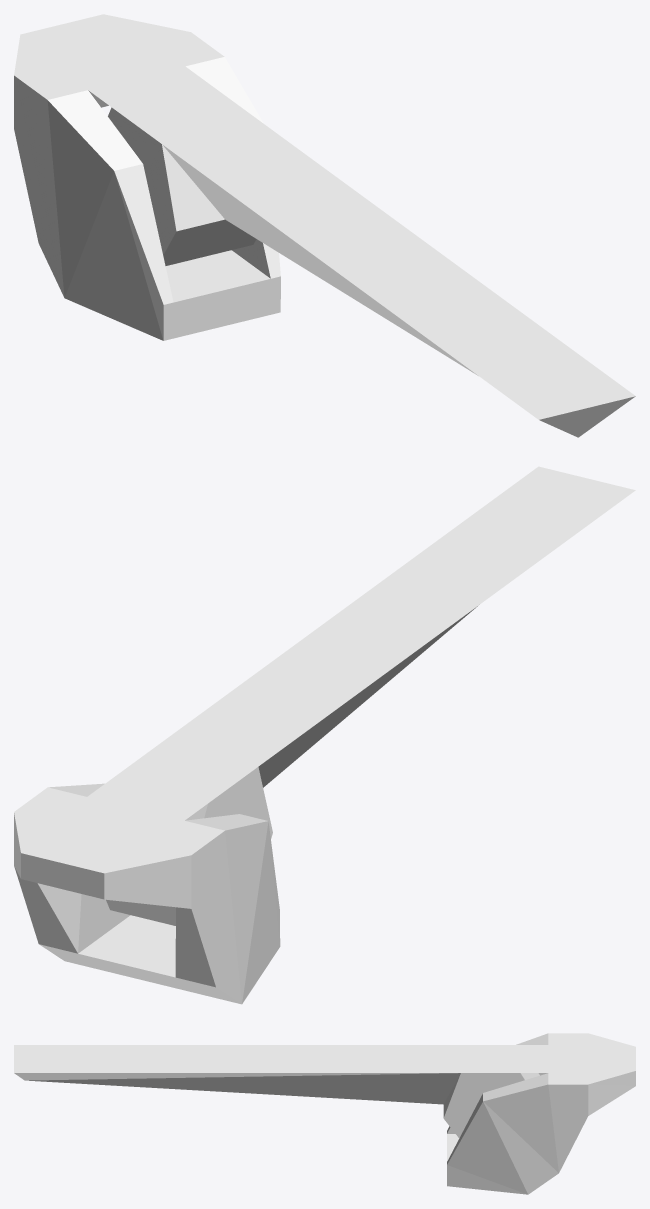
File: CraneArm_KCL.obj
3 renders of one model, top to bottom at view 1: azimuth 30°, elevation 25°; view 2: azimuth 150°, elevation 25°; view 3: azimuth 270°, elevation 25°, orthographic. The views are drawn at different scales.
Visible parts, largest first — view 1: Mesh_Mesh.001_Boat_3; view 2: Mesh_Mesh.001_Boat_3; view 3: Mesh_Mesh.001_Boat_3.
Boxes of the visible parts, box(x1,y1,x2,y2) form: Mesh_Mesh.001_Boat_3: box(14, 14, 635, 437); Mesh_Mesh.001_Boat_3: box(14, 466, 635, 1004); Mesh_Mesh.001_Boat_3: box(14, 1033, 635, 1194).
Bounding box in the file's own units: 0.336 × 0.3371 × 1.72.
Materials: 3 (2 with a texture image).
